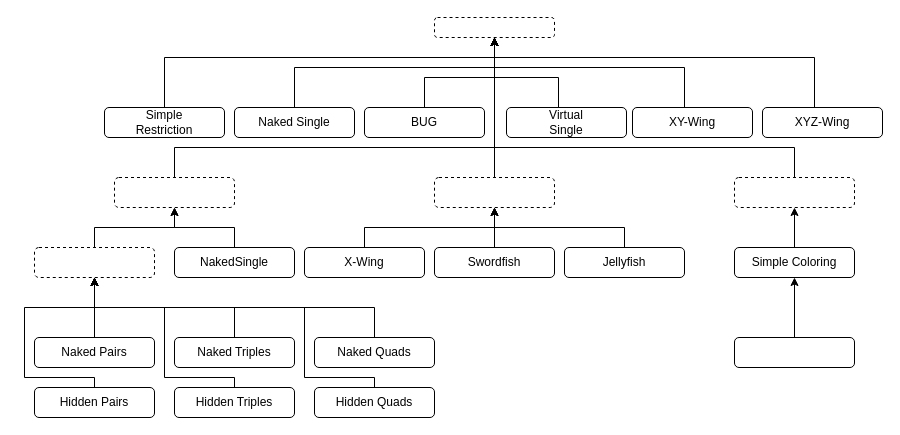
The diagram is 900 pixels wide and 435 high, and some of its shapes have lost their labels. Each missing label, with the centre of its shape:
"Chain Tech" goes at [794,192].
"Extended Simple Coloring" goes at [794,352].
"Grouped Tech" goes at [174,192].
"Locked Rect Tech" goes at [494,192].
"Matrix Tech" goes at [94,262].
"Tech" goes at [494,27].
